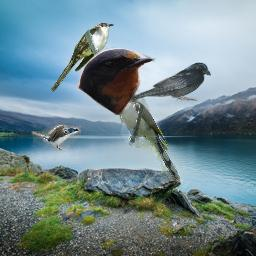Crow: (131, 62, 211, 101)
Cuckoo: (108, 86, 180, 182), (50, 22, 114, 93)
Swallow: (77, 47, 156, 115), (31, 124, 81, 150)
